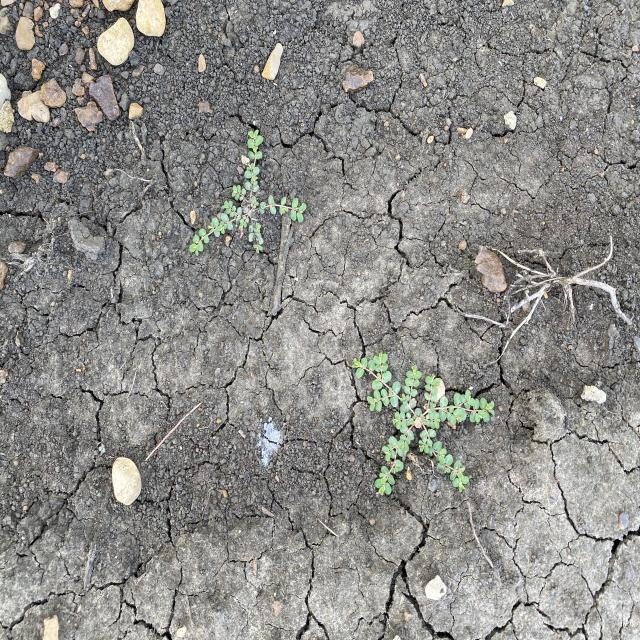SpottedSpurge: (350, 351, 497, 498), (188, 126, 308, 257)
